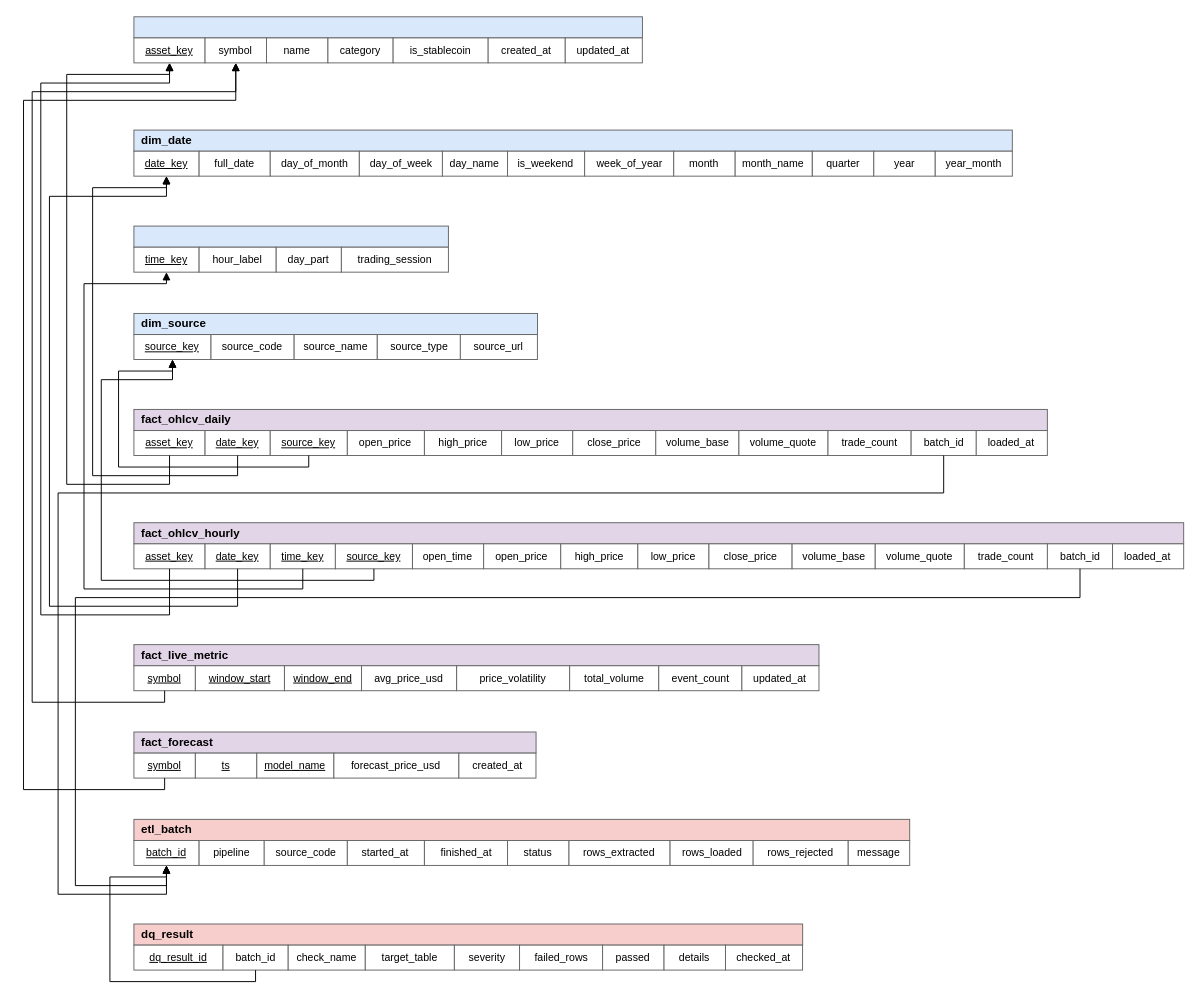
Image size: 1201x1006. Some labels were removed from this diagram. Each missing label, with the centre of its shape:
"dim_asset" belongs at pixel 387 27.
"dim_time" belongs at pixel 290 236.
